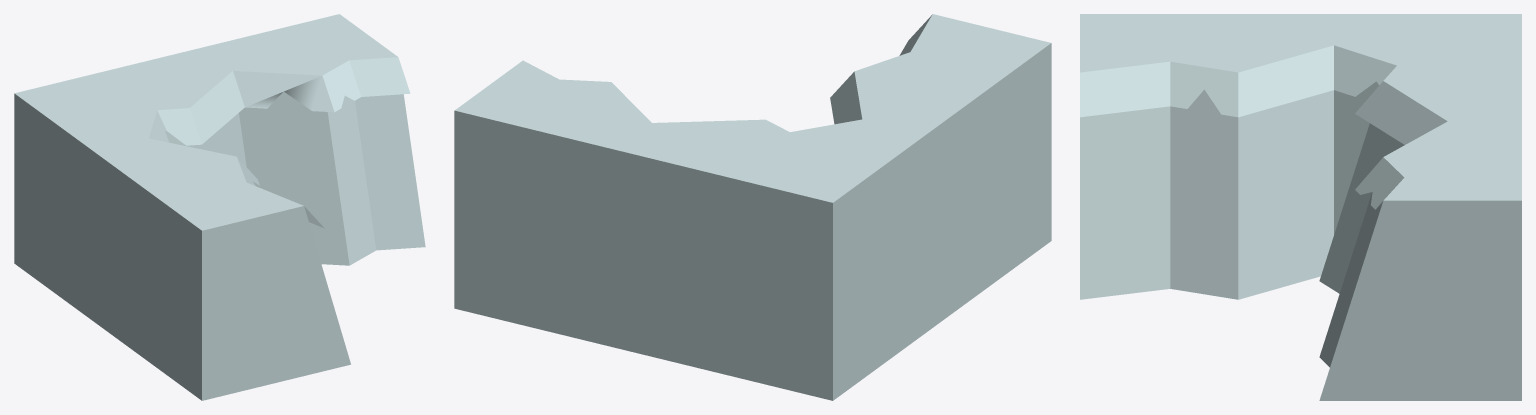
File: cliffGrey_halfCornerInner.fbx
3 views of the same model, side by side, from view 1: azimuth 30°, elevation 25°; view 2: azimuth 150°, elevation 25°; view 3: azimuth 270°, elevation 25° (orthographic). The views are drawn at different scales.
Visible parts, largest first — view 1: cliffGrey_halfCornerInner; view 2: cliffGrey_halfCornerInner; view 3: cliffGrey_halfCornerInner.
Part boxes in pixels (<box>): cliffGrey_halfCornerInner: <box>14,14,425,400</box>; cliffGrey_halfCornerInner: <box>454,14,1051,400</box>; cliffGrey_halfCornerInner: <box>1080,14,1521,400</box>.
Size of the model in its own units: 300 by 150 by 300.
